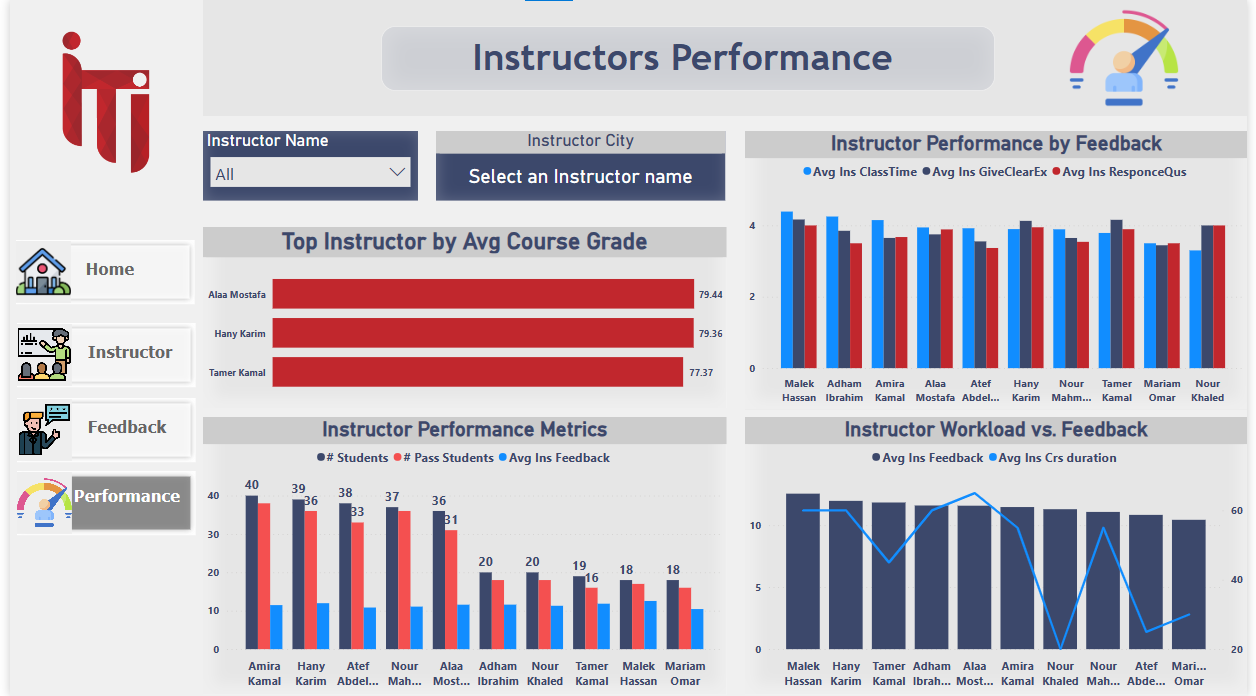

The dashboard page shown, as its layout file describes it:
{"tool":"powerbi","page":{"name":"Instructor Performance","canvas":[1600,900],"ordinal":9},"visuals":[{"type":"slicer","title":"Instructor Name","fields":{"Values":["Instructor.Ins_name"]},"box":[250,169.4,278.1,90.4],"z":0},{"type":"shape","box":[250,0,1350,150],"z":1000},{"type":"textbox","box":[480,34,794,84],"z":2000},{"type":"card","title":"Instructor City","fields":{"Values":["DAX.SelectedCity"]},"box":[551.2,169.4,373.8,90.4],"z":3000},{"type":"clusteredColumnChart","title":"Instructor Performance by Feedback","fields":{"Y":["Avg(Crs_Evaluation.Inst_ClassTime)","Avg(Crs_Evaluation.Inst_GiveClearEx)","Avg(Crs_Evaluation.Inst_Responce_Qus)"],"Category":["Instructor.Ins_name"]},"box":[949.8,169.4,650.2,359.6],"z":4000},{"type":"lineClusteredColumnComboChart","title":"Instructor Performance Metrics","fields":{"Category":["Instructor.Ins_name"],"Y":["CountNonNull(Std_Crs_Grade.Std_id)","DAX.Pass","DAX.Average_Ins_Feedback"]},"box":[249.2,539.6,677.1,359.2],"z":5000},{"type":"lineClusteredColumnComboChart","title":"Instructor Workload vs. Feedback","fields":{"Category":["Instructor.Ins_name"],"Y":["DAX.Average_Ins_Feedback"],"Y2":["Avg(Course.Crs_duration)"]},"box":[950.4,539.6,649.6,359.2],"z":6000},{"type":"image","box":[1366,0,150,150],"z":7000},{"type":"image","box":[10,10,231.7,218.3],"z":8000},{"type":"actionButton","box":[8,310,231.4,82.9],"z":9000},{"type":"textbox","box":[93.7,330,84.3,62.9],"z":10000},{"type":"actionButton","box":[8,311.4,71.4,80],"z":11000},{"type":"actionButton","box":[9.4,417.1,231.4,82.9],"z":12000},{"type":"textbox","box":[95.1,437.1,121.4,62.9],"z":13000},{"type":"actionButton","box":[9.4,418.6,71.4,80],"z":14000},{"type":"actionButton","box":[9.4,514.3,231.4,82.9],"z":15000},{"type":"textbox","box":[95.1,534.3,131.4,62.9],"z":16000},{"type":"actionButton","box":[9.4,515.7,71.4,80],"z":17000},{"type":"actionButton","box":[9.4,608.6,231.4,82.9],"z":18000},{"type":"textbox","box":[78,622.9,155.7,52.9],"z":19000},{"type":"actionButton","box":[9.4,610,71.4,80],"z":20000},{"type":"clusteredBarChart","title":"Top Instructor by Avg Course Grade","fields":{"Category":["Instructor.Ins_name"],"Y":["Avg(Std_Crs_Grade.Grade)"]},"box":[249.8,294.1,676.8,233.9],"z":21000}]}

Visuals, with their boxes on the page's 1600x900 design canvas (x1, y1, x2, y2). These are canvas units, not pixel positions in the 1256x696 screenshot, which may show the page scaled, cropped or inside an application window:
"Instructor Name" slicer: [250,169,528,260]
shape: [250,0,1600,150]
textbox: [480,34,1274,118]
"Instructor City" card: [551,169,925,260]
"Instructor Performance by Feedback" clusteredColumnChart: [950,169,1600,529]
"Instructor Performance Metrics" lineClusteredColumnComboChart: [249,540,926,899]
"Instructor Workload vs. Feedback" lineClusteredColumnComboChart: [950,540,1600,899]
image: [1366,0,1516,150]
image: [10,10,242,228]
actionButton: [8,310,239,393]
textbox: [94,330,178,393]
actionButton: [8,311,79,391]
actionButton: [9,417,241,500]
textbox: [95,437,216,500]
actionButton: [9,419,81,499]
actionButton: [9,514,241,597]
textbox: [95,534,226,597]
actionButton: [9,516,81,596]
actionButton: [9,609,241,692]
textbox: [78,623,234,676]
actionButton: [9,610,81,690]
"Top Instructor by Avg Course Grade" clusteredBarChart: [250,294,927,528]
